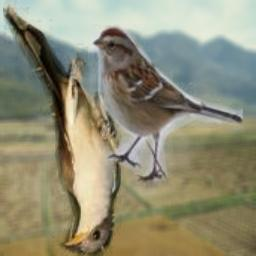Cuckoo: (3, 0, 121, 256)
Sparrow: (88, 20, 244, 186)
